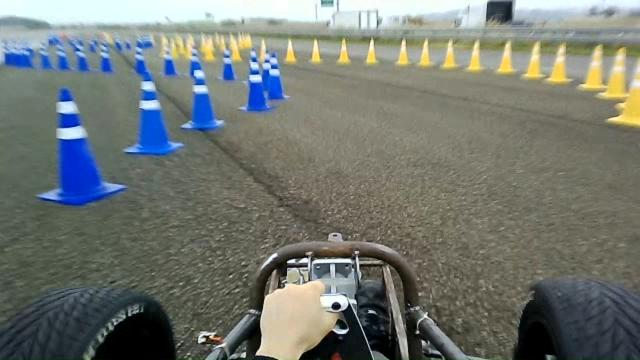blue cone: (35, 86, 127, 206), (122, 71, 184, 155), (180, 70, 224, 132), (245, 50, 266, 113), (265, 49, 285, 101)
